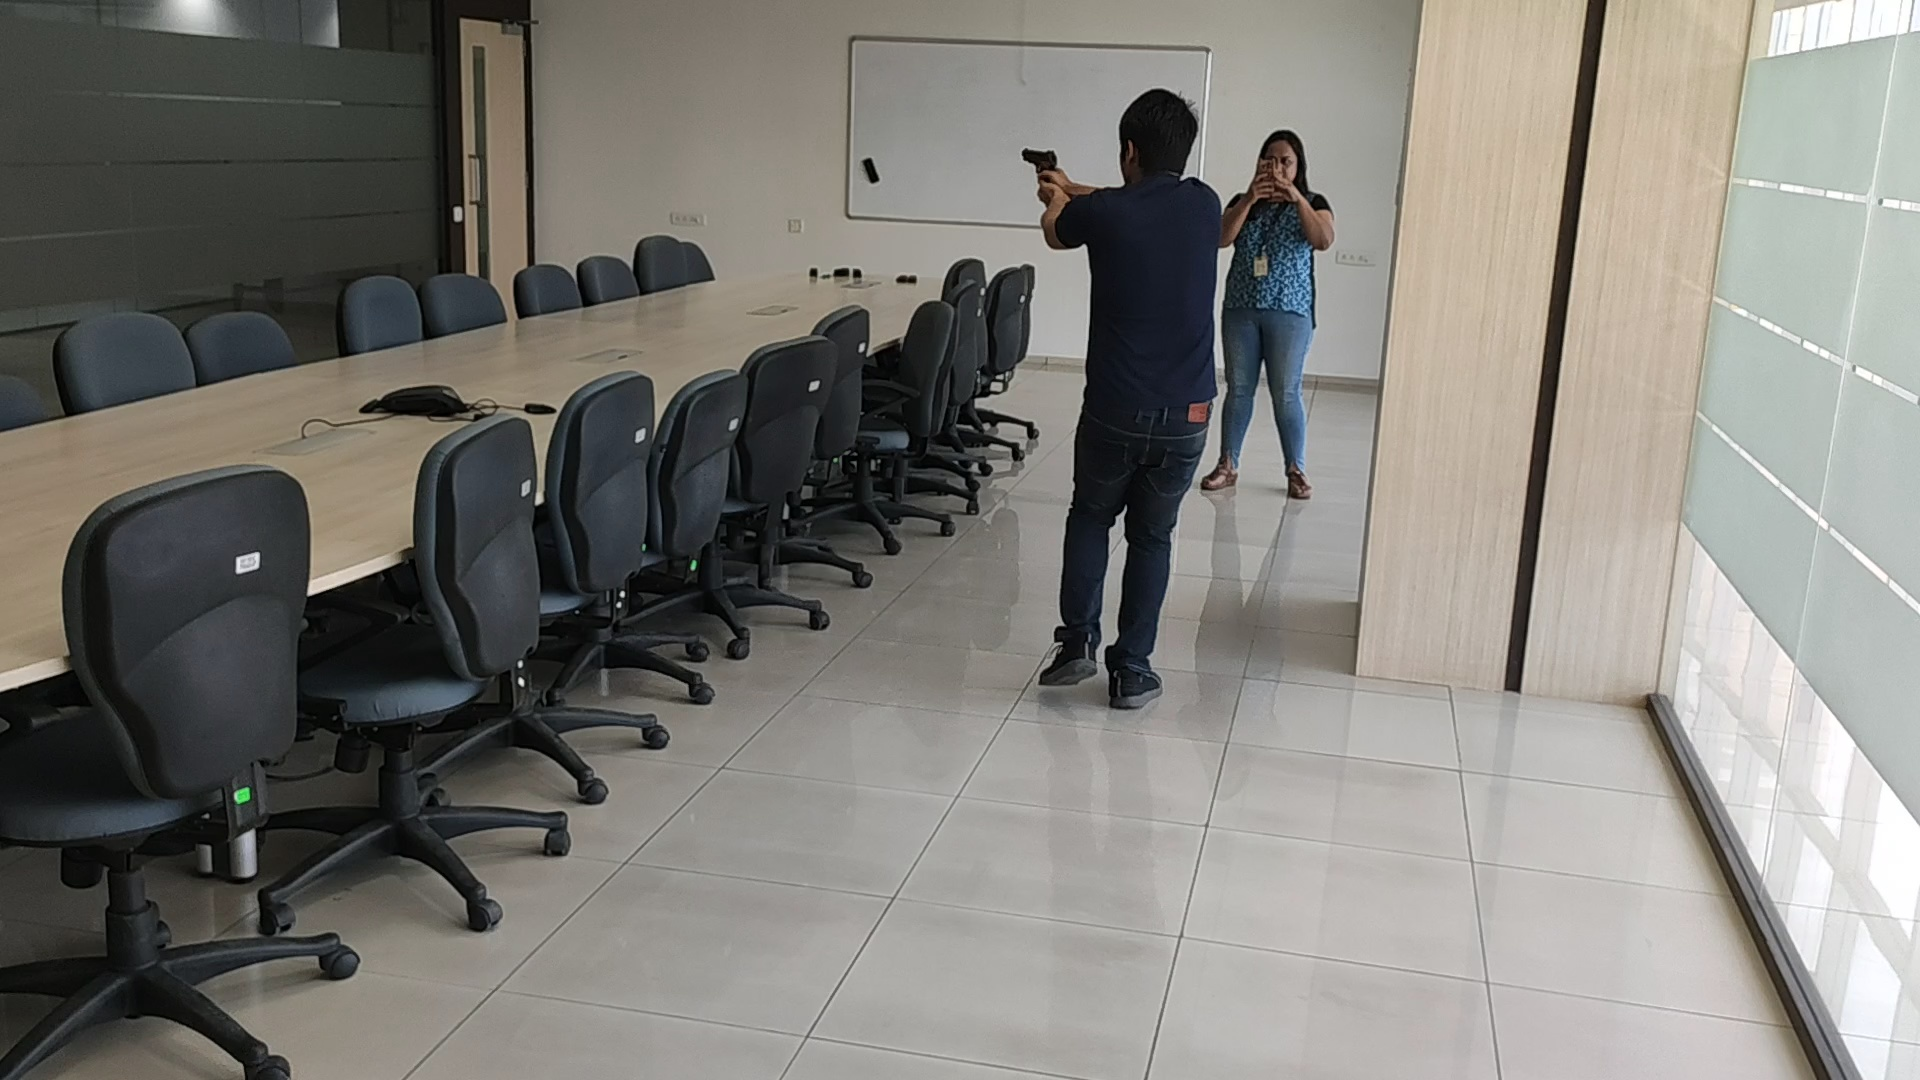gun: (1017, 145, 1058, 177)
